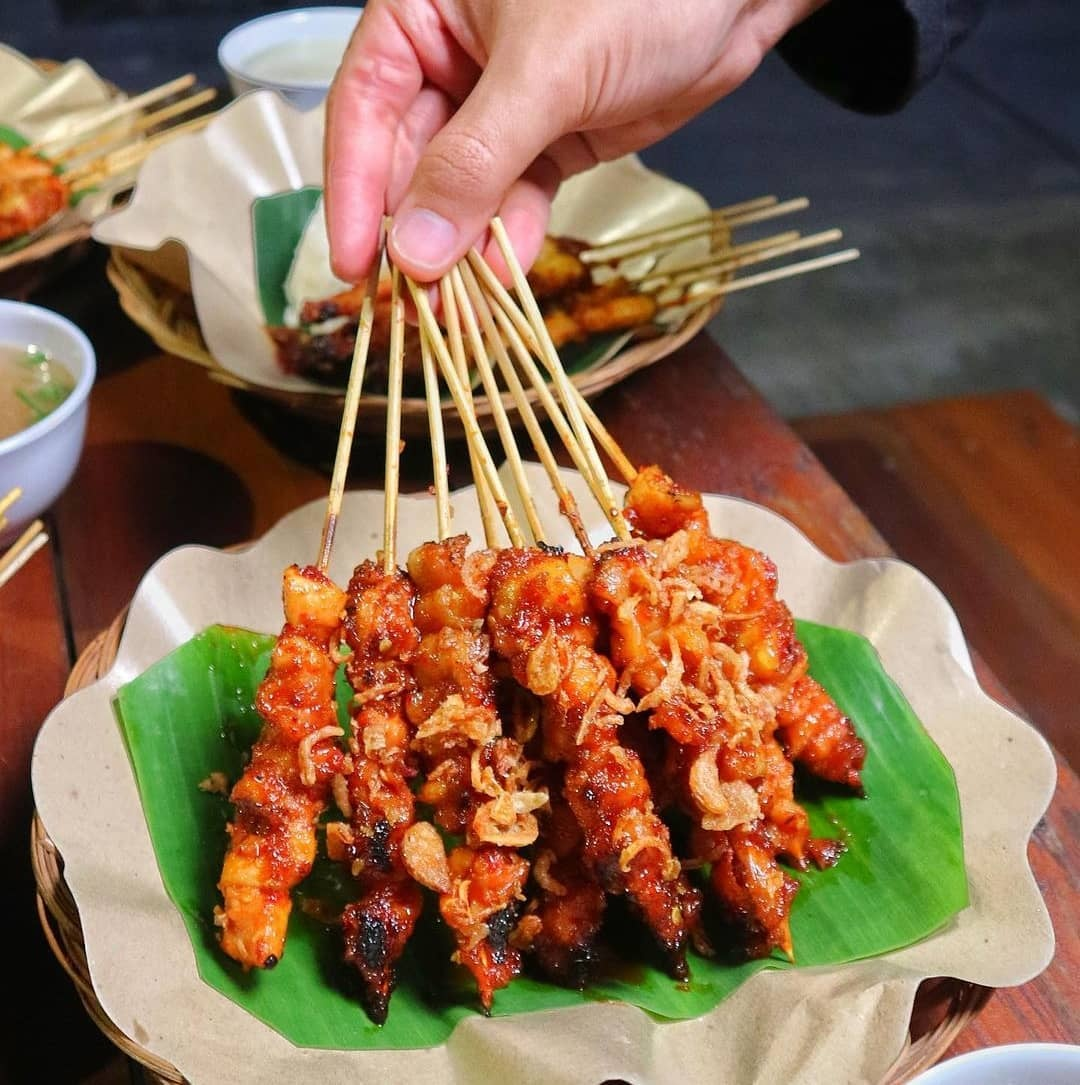sate: (200, 275, 867, 1032)
